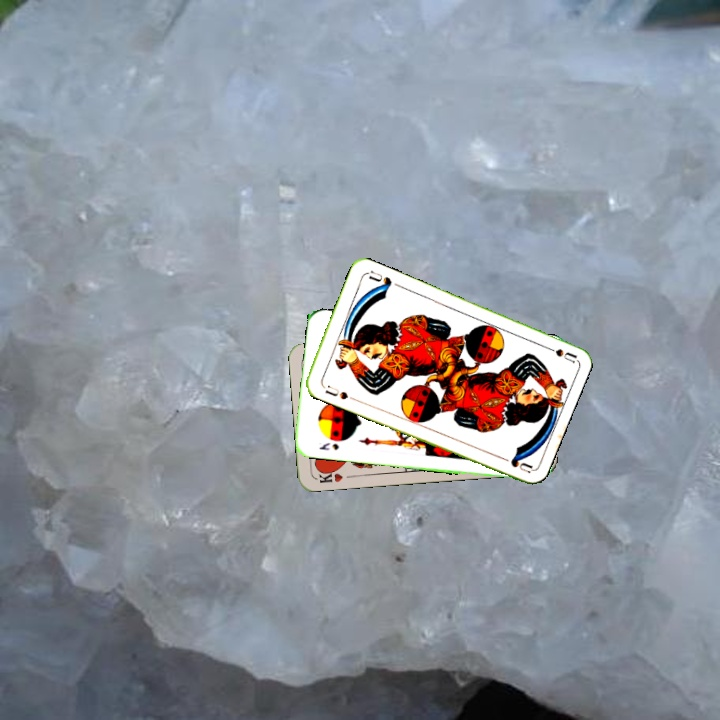HK: (312, 465, 345, 485)
SK: (315, 439, 341, 453)
SU: (538, 341, 578, 365), (318, 380, 350, 402)
